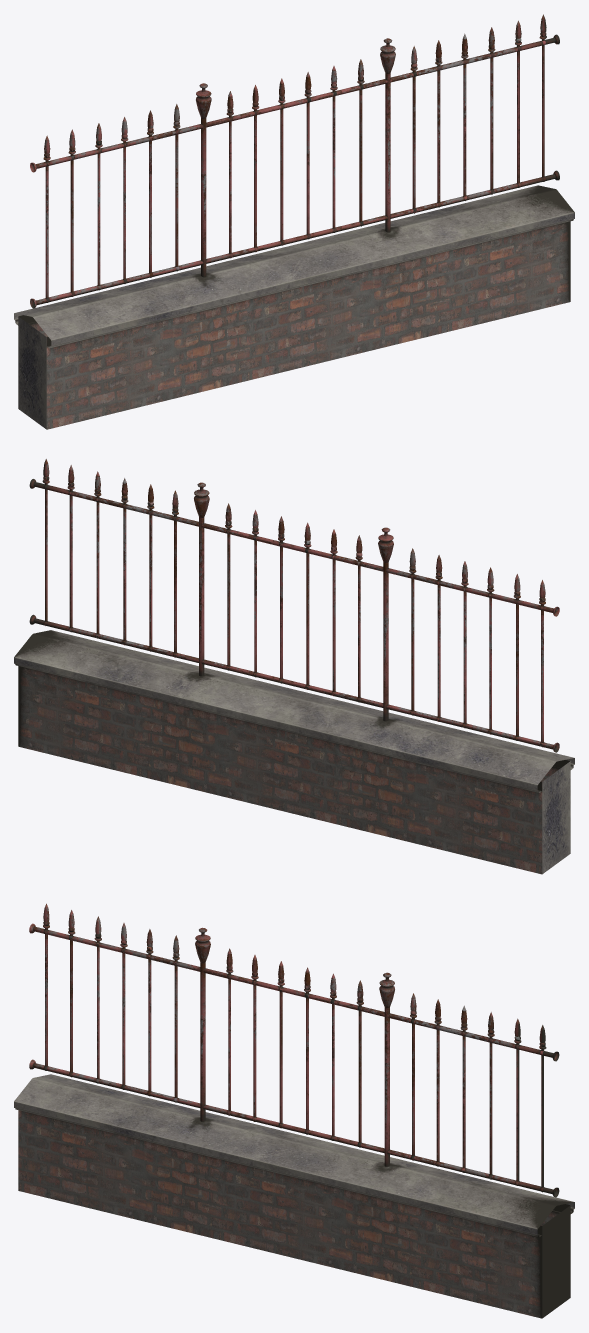
File: campus_wall.glb
The picture shows the model from 3 angles, top to bottom: view 1: azimuth 30°, elevation 25°; view 2: azimuth 150°, elevation 25°; view 3: azimuth 330°, elevation 25°; orthographic projection.
Visible parts, largest first — view 1: _1_3__0; view 2: _1_3__0; view 3: _1_3__0.
Boxes of the visible parts, x1,y1,x2,y2 form: _1_3__0: (14, 14, 574, 429); _1_3__0: (14, 459, 574, 874); _1_3__0: (14, 903, 574, 1318).
Size of the model in its own units: 4.01 by 2.15 by 0.4922.
1 material, 1 textured.
